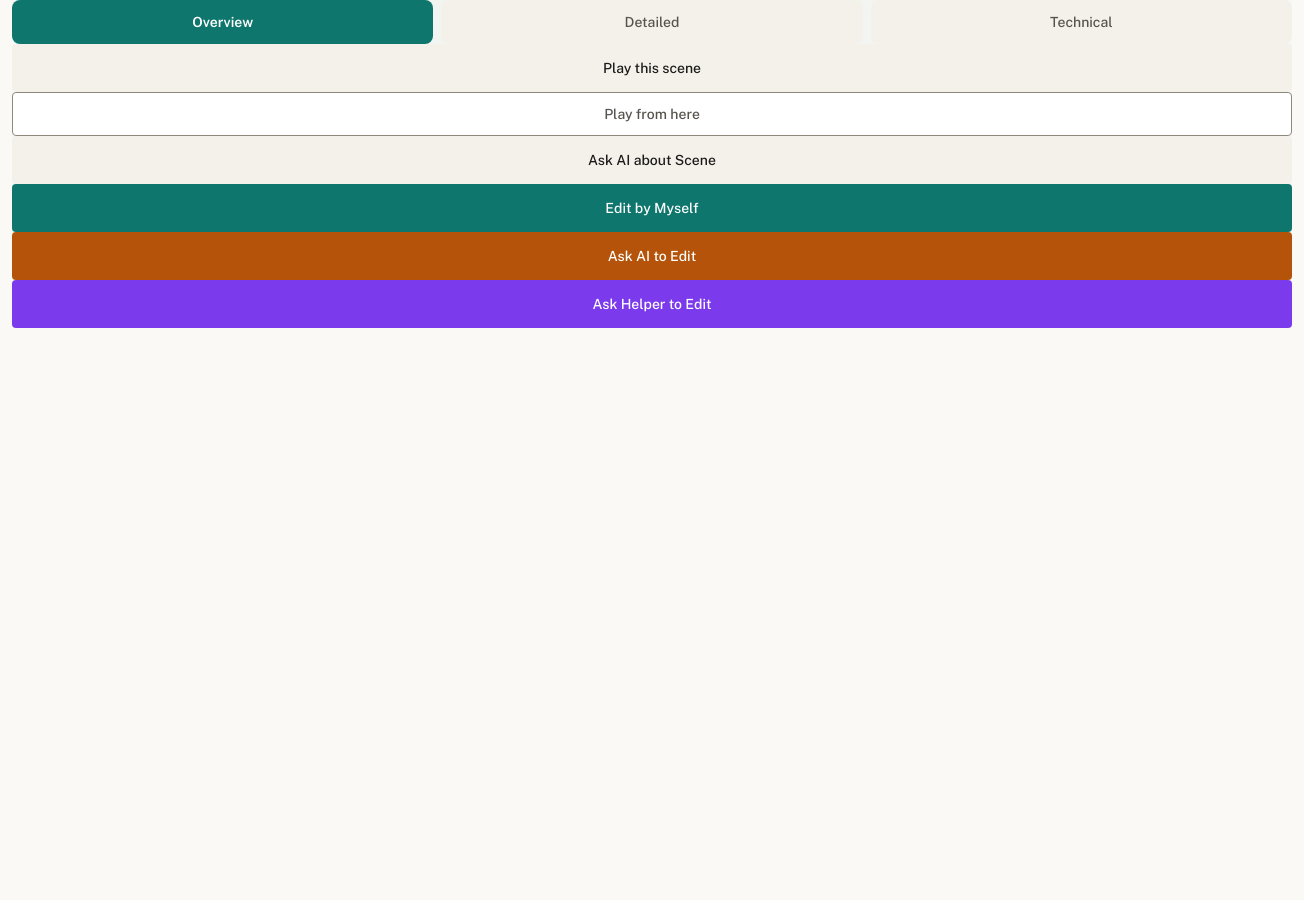
Test case: SceneActions — edit by myself › the mute button reads "Unmute original audio" when the clip is already muted
Click the button "Edit by Myself" at [652, 208], box left=12, top=184, right=1292, bottom=232
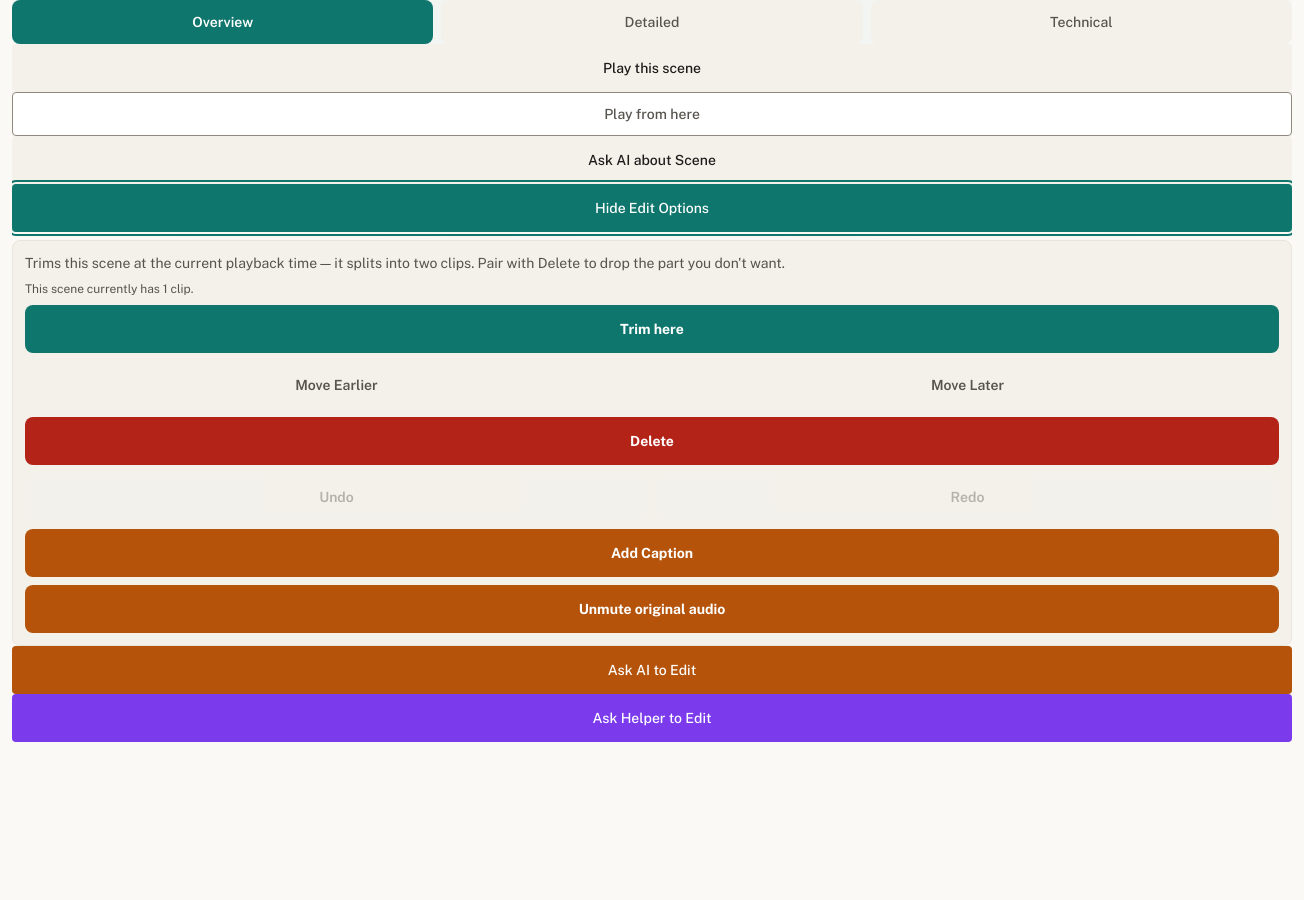
Check: the button with aria-label "unmute the original audio for scene 1" is shown, box left=25, top=585, right=1279, bottom=633
